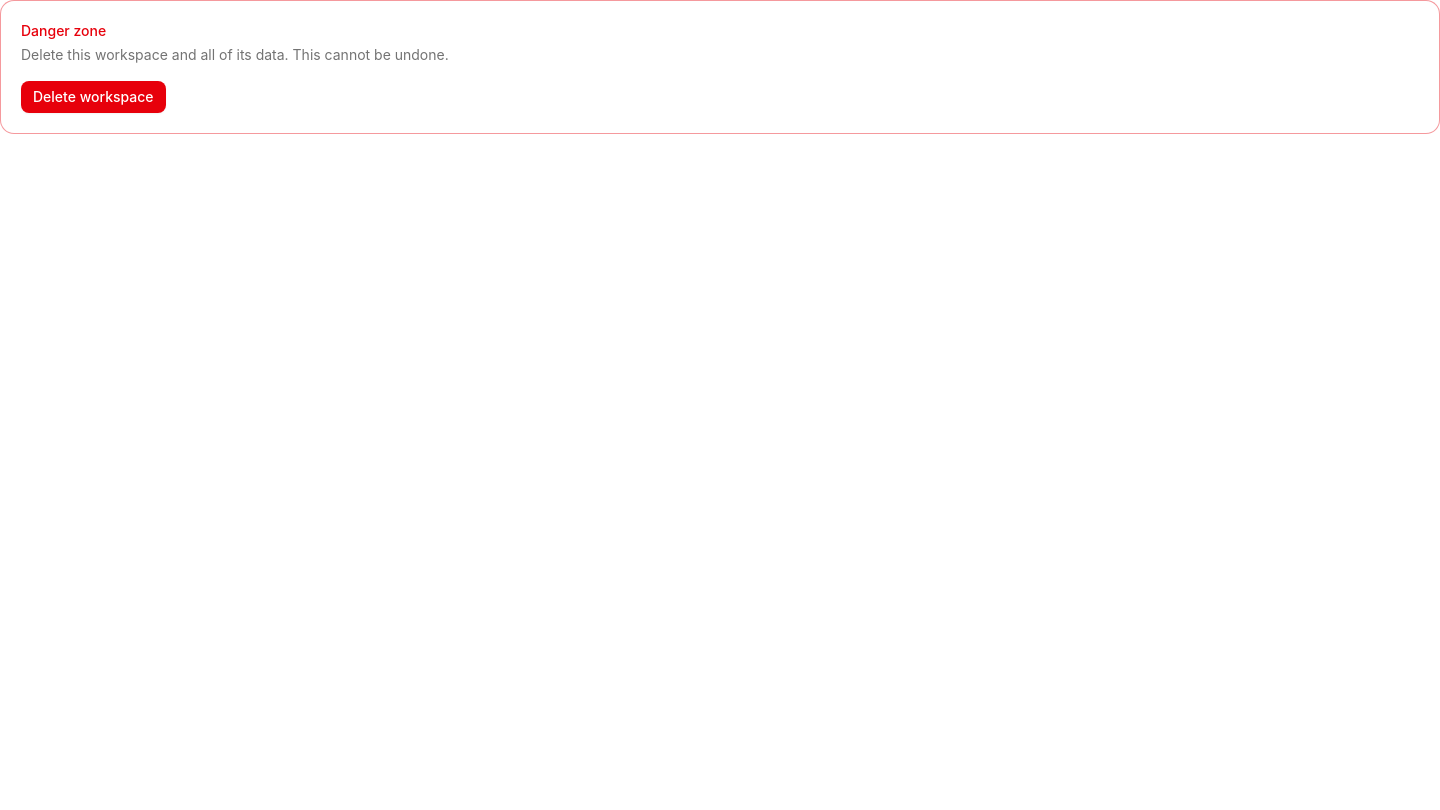
Test: DeleteOrganizationDialog › does not submit a mismatched confirmation slug
Later steps or results of the test are not shown.
Step 1. Click the button "Delete workspace" → (93, 97), box [21, 81, 166, 113]
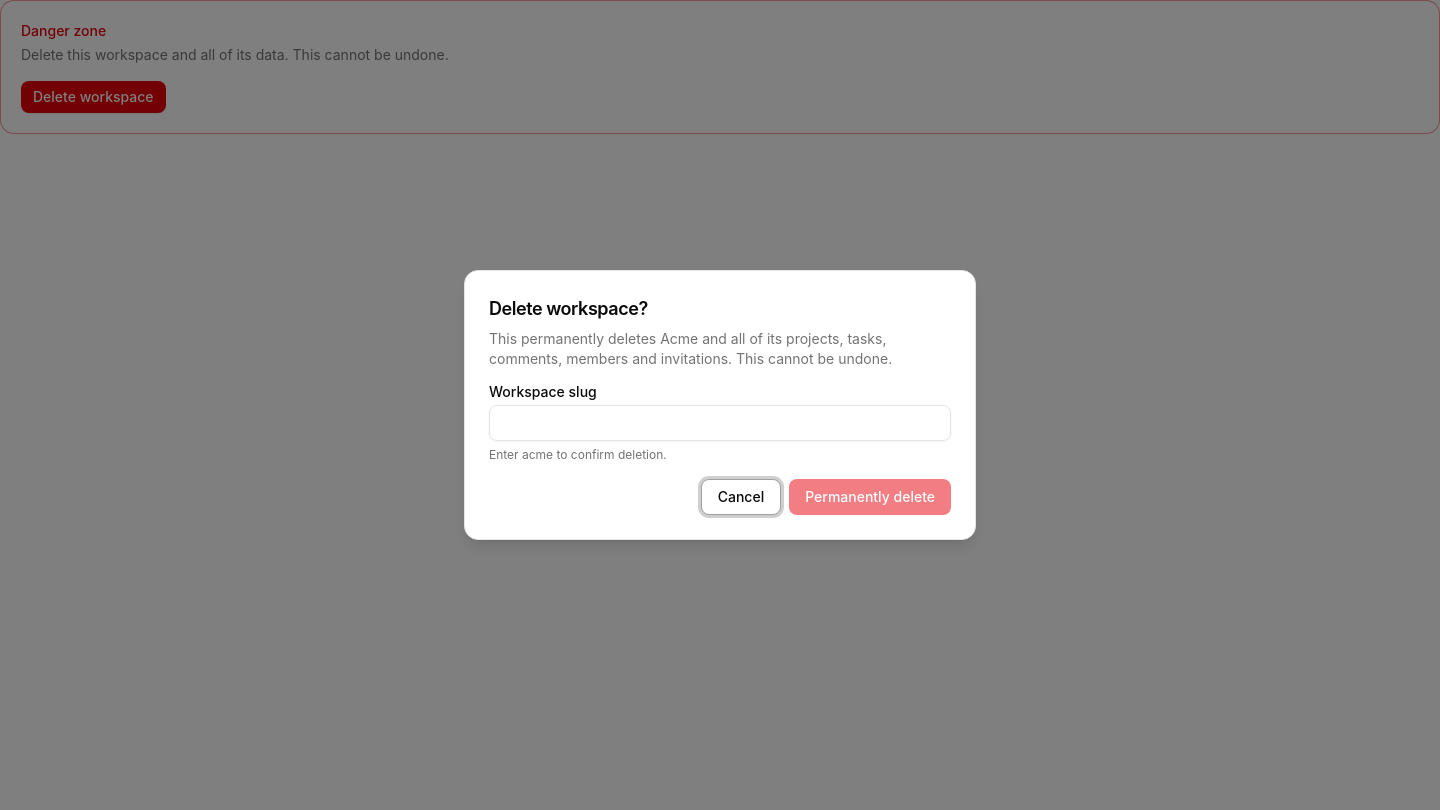
Step 2. Type "wrong" into the field labelled "Workspace slug" → (720, 423), box [489, 405, 951, 441]
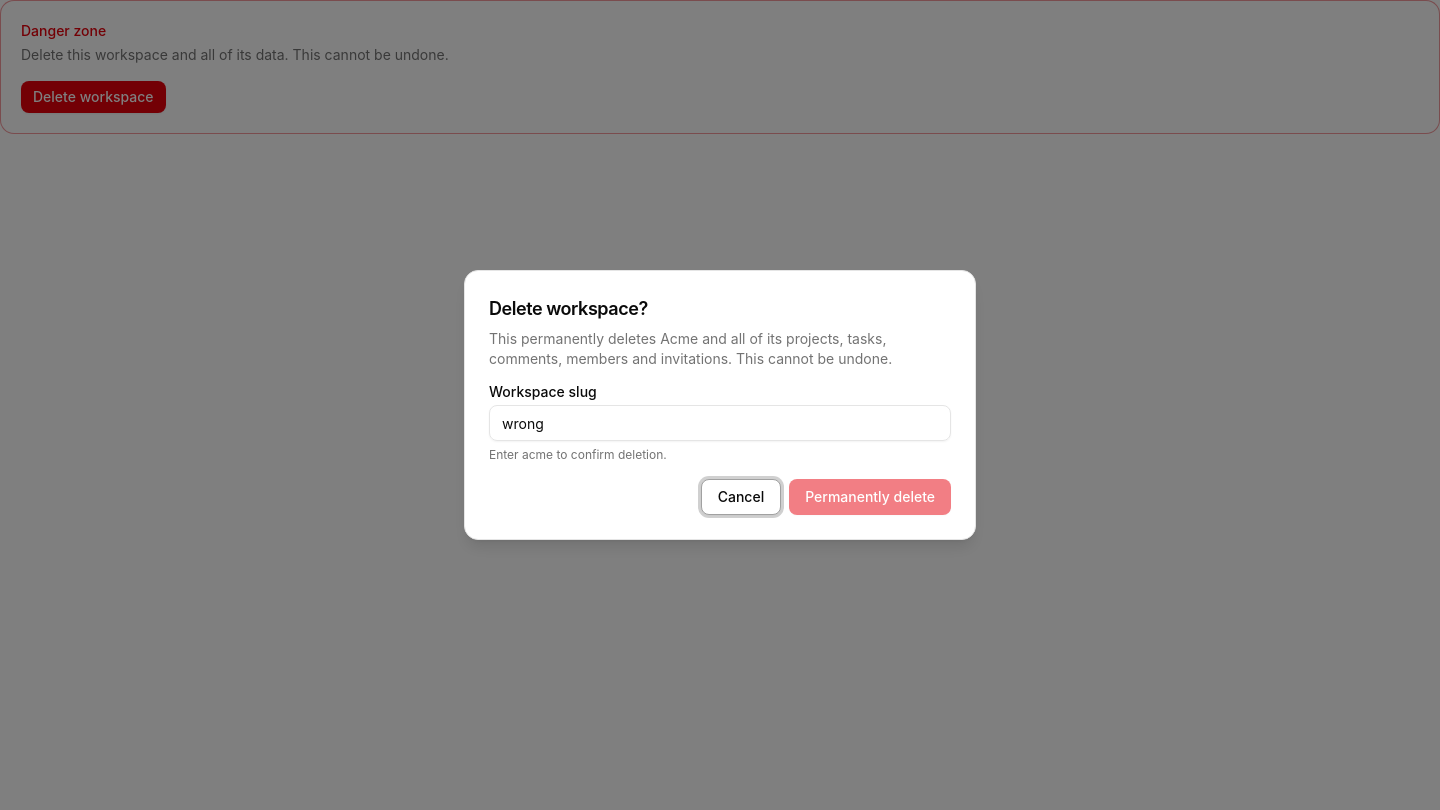
expect the button "Permanently delete" is disabled: met, box [789, 479, 951, 515]
